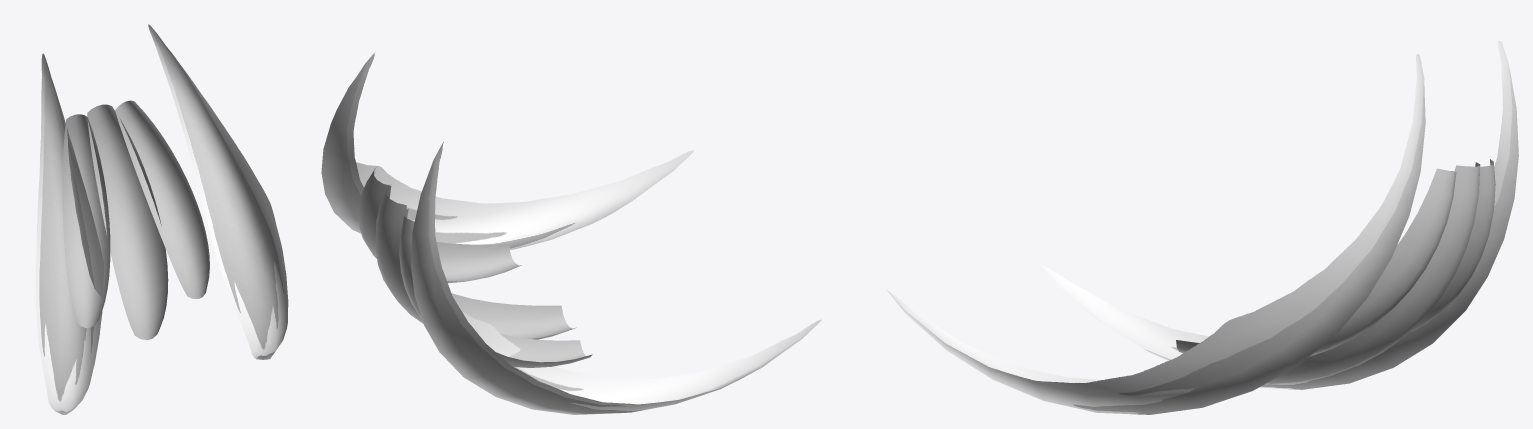
The model's file is fx_m10117_skill01.fbx.
3 renders of one model, left to right at view 1: azimuth 30°, elevation 25°; view 2: azimuth 150°, elevation 25°; view 3: azimuth 270°, elevation 25°, orthographic. The views are drawn at different scales.
Parts seen in each view (by area): view 1: trail_alpha_out, trail_alpha; view 2: trail_alpha_out, trail_alpha; view 3: trail_alpha_out, trail_alpha.
Boxes of the visible parts, bbox=[...] form: trail_alpha_out: bbox=[35, 24, 288, 414]; trail_alpha: bbox=[62, 100, 209, 340]; trail_alpha_out: bbox=[321, 52, 821, 414]; trail_alpha: bbox=[359, 167, 592, 367]; trail_alpha_out: bbox=[886, 41, 1518, 414]; trail_alpha: bbox=[1176, 159, 1495, 383].
Size of the model in its own units: 393 by 377 by 492.
